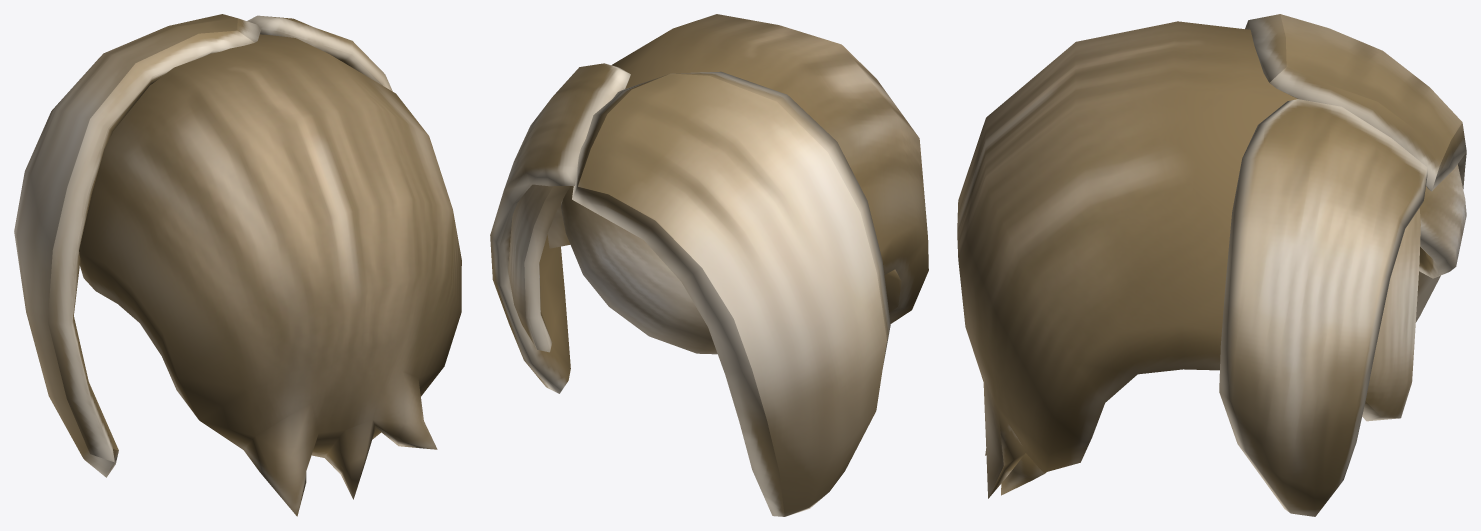
3 renders of one model, left to right at view 1: azimuth 30°, elevation 25°; view 2: azimuth 150°, elevation 25°; view 3: azimuth 270°, elevation 25°, orthographic. The views are drawn at different scales.
Visible parts, largest first — view 1: geometry_0; view 2: geometry_0; view 3: geometry_0.
Part boxes in pixels (left/top/right/bottom): geometry_0: left=14, top=14, right=461, bottom=516; geometry_0: left=490, top=14, right=928, bottom=516; geometry_0: left=957, top=14, right=1466, bottom=516.
Size of the model in its own units: 0.7713 by 0.8424 by 0.8052.
Materials: 1 (1 with a texture image).
